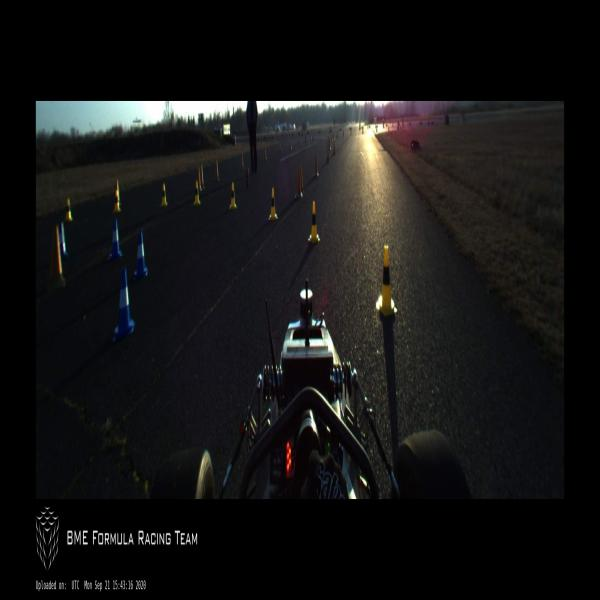blue_cone: (113, 269, 134, 341), (134, 231, 148, 280), (109, 219, 122, 260), (59, 222, 68, 257)
yellow_cone: (376, 244, 397, 318), (308, 200, 320, 244), (268, 188, 278, 222), (229, 182, 236, 209), (193, 180, 200, 206), (64, 198, 72, 220), (161, 183, 168, 206), (113, 190, 120, 212)
